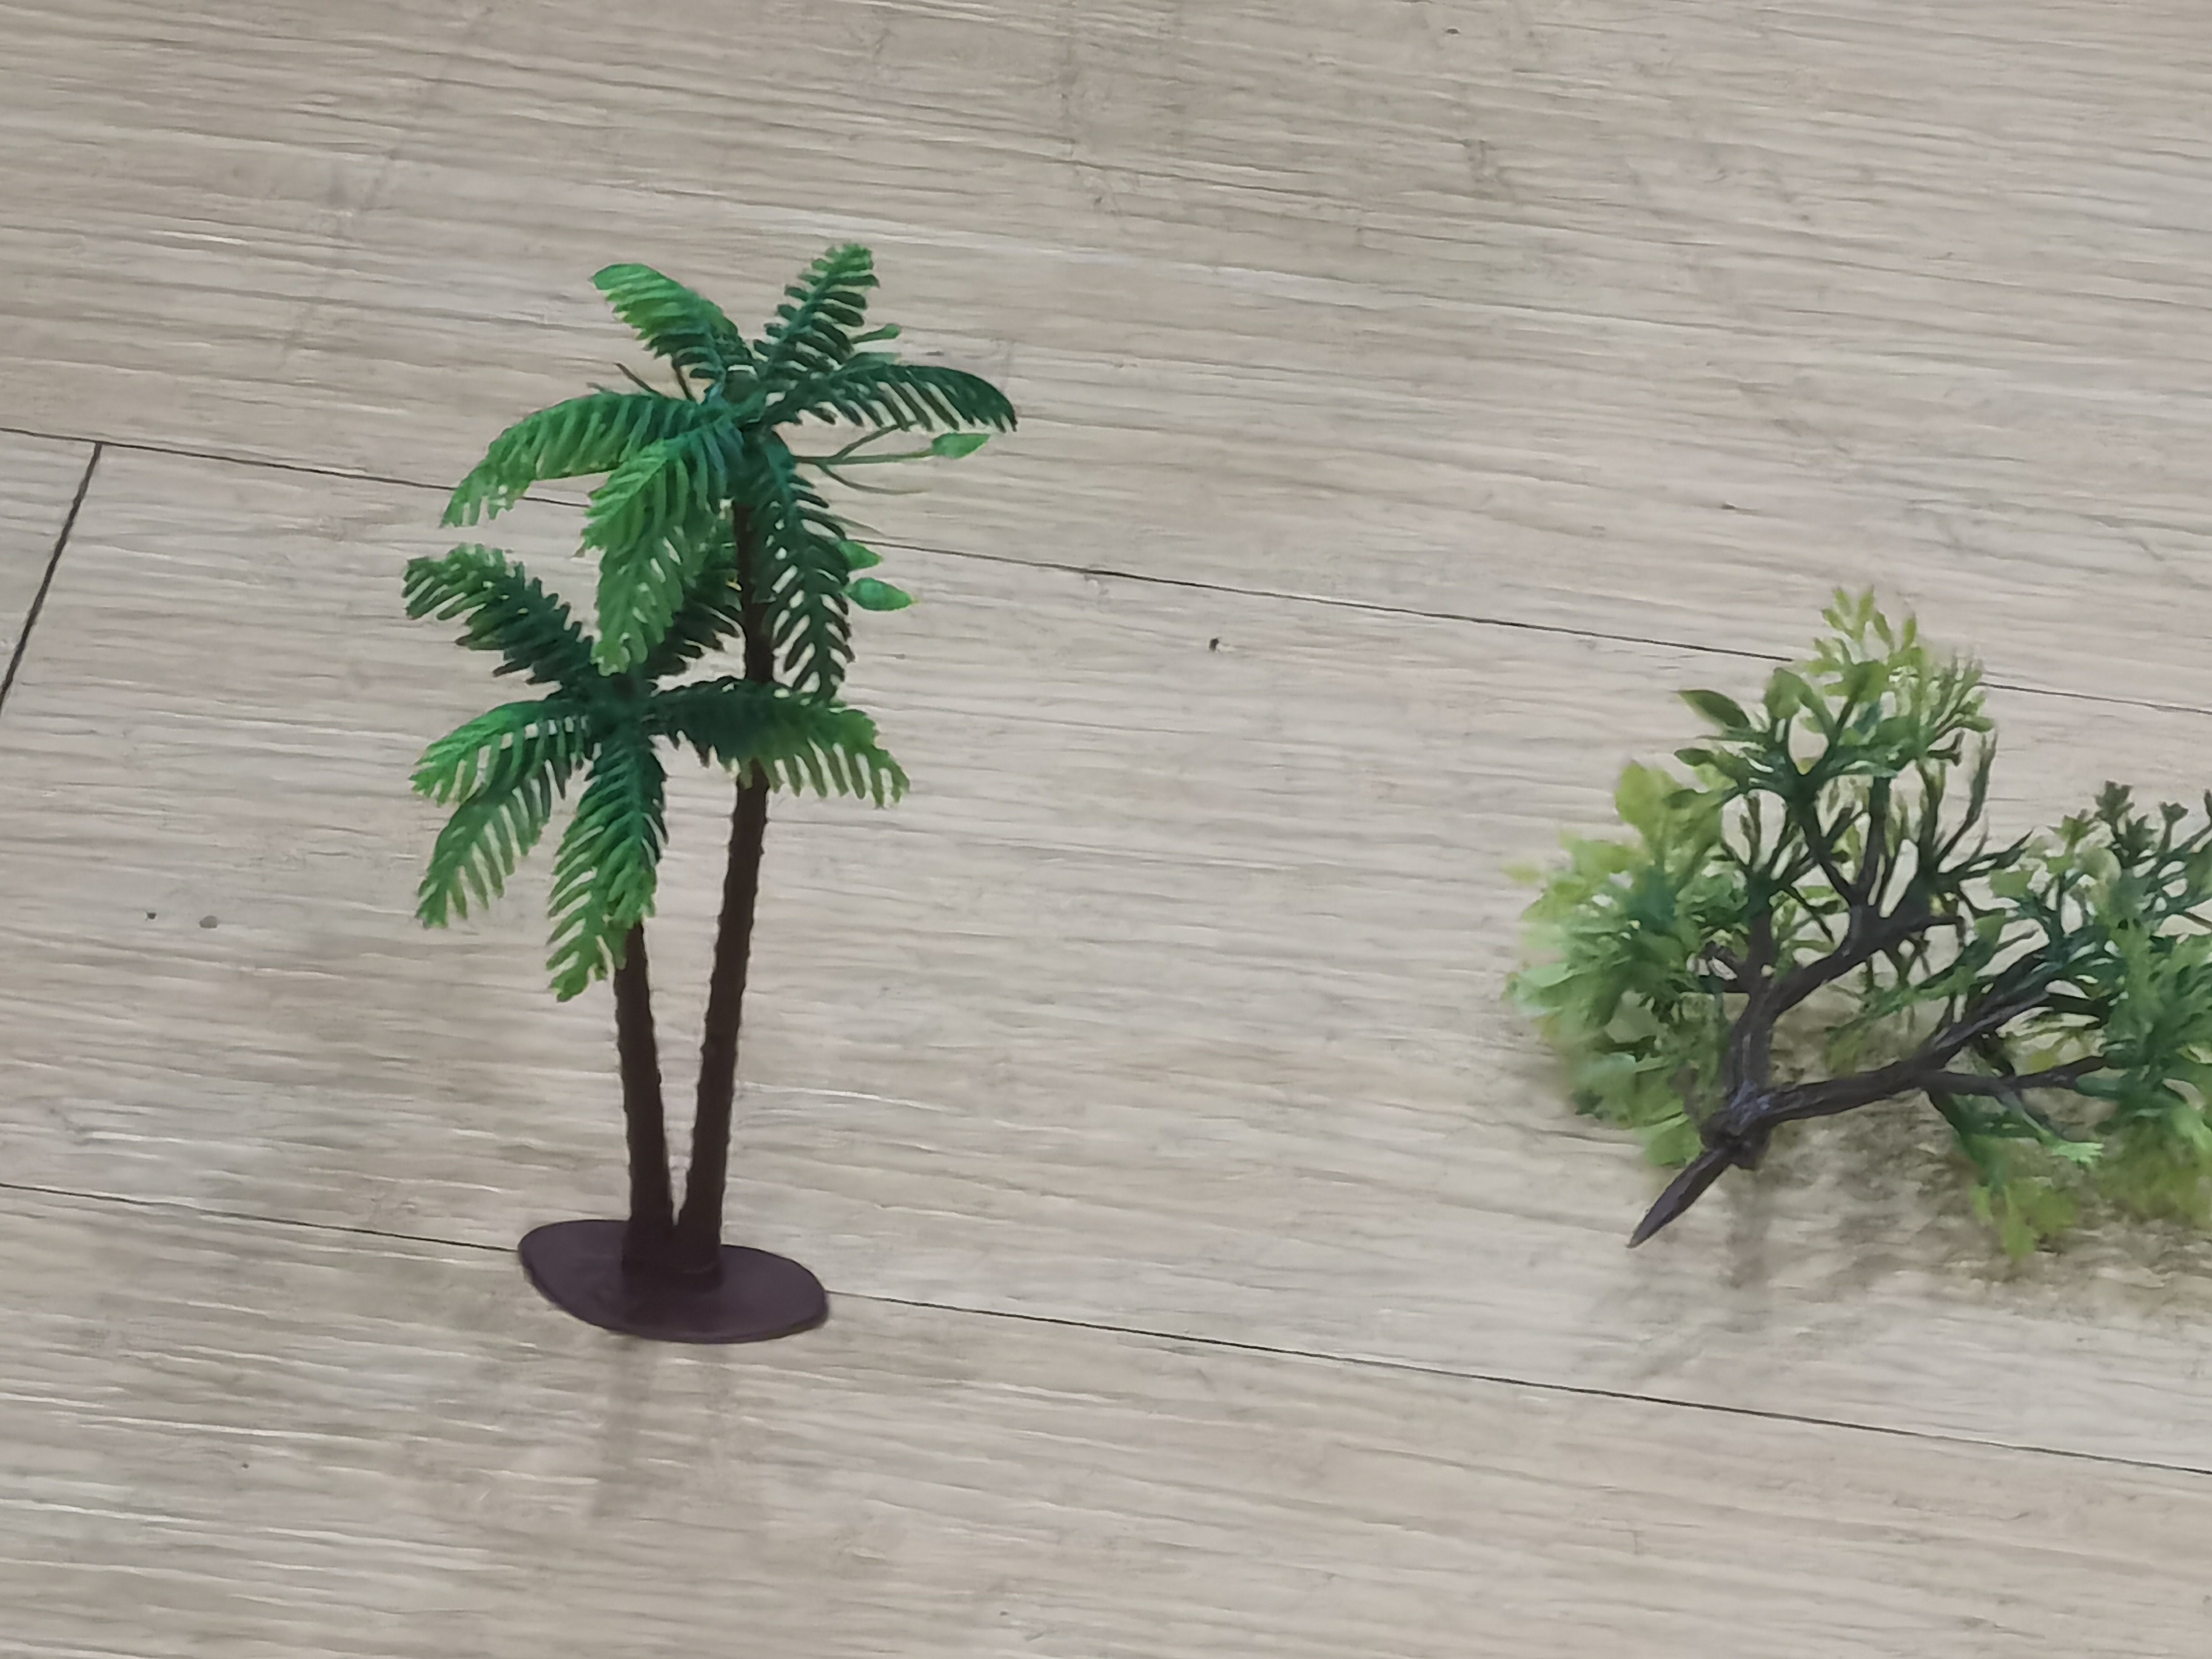corn: (357, 237, 1040, 1342)
